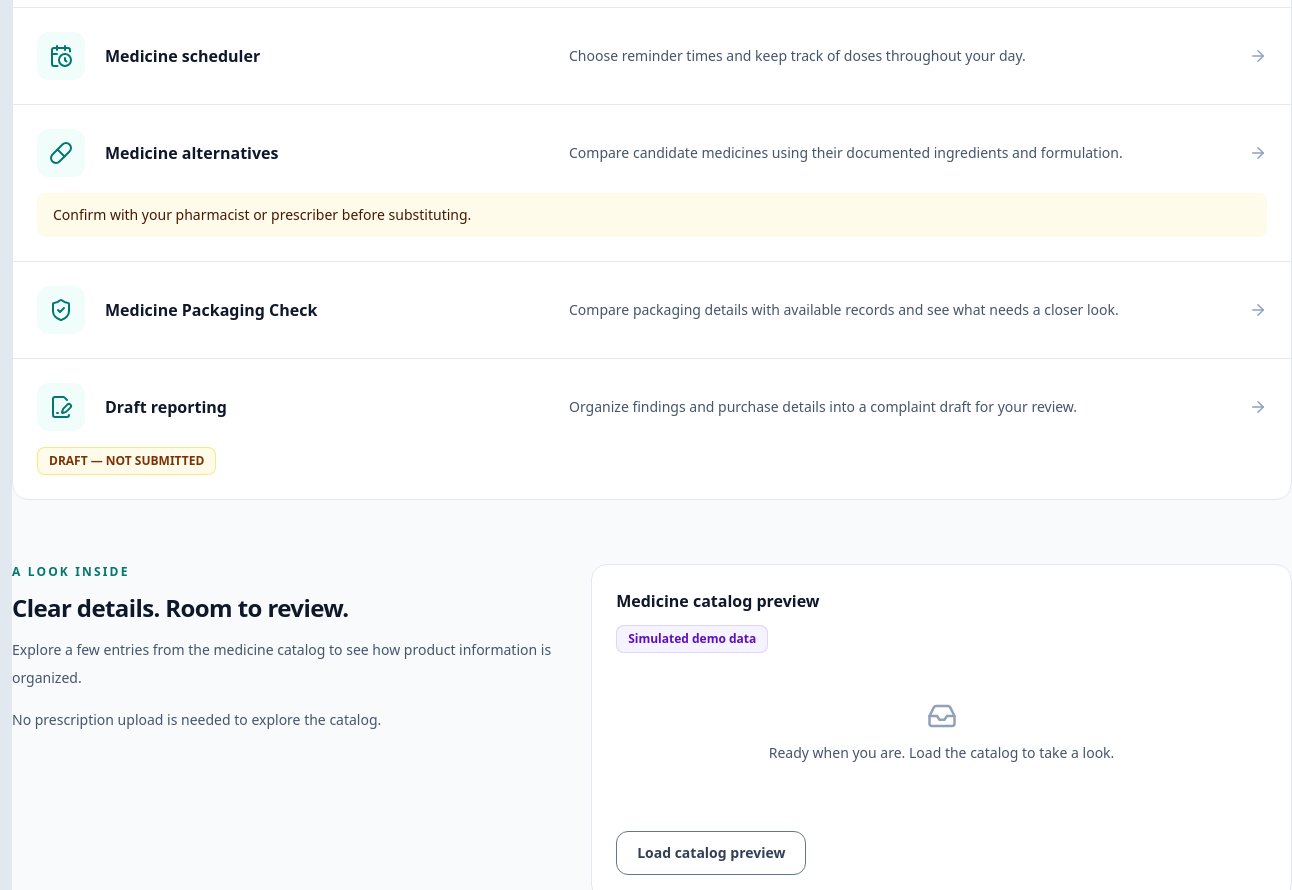
Scenario: handles an empty catalog and allows refreshing it
This screenshot has width=1292, height=890.
(page scrolled)
Step 1. Click the button "Load catalog preview" → (711, 853), box [616,831,806,875]
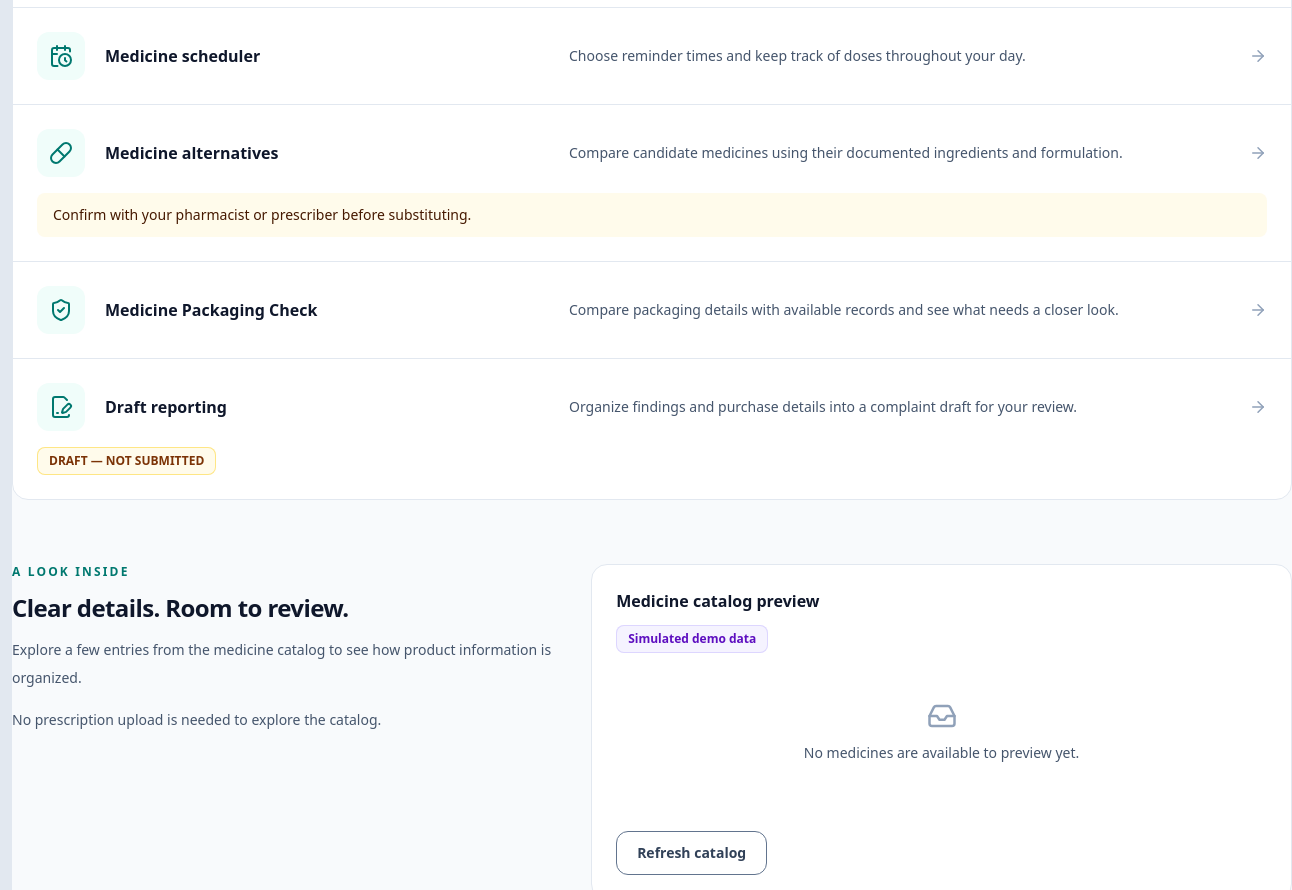
Now the text "No medicines are available to preview yet." is shown, box [804,743,1079,762]
Step 2. Click the button "Refresh catalog" → (692, 853), box [616,831,767,875]
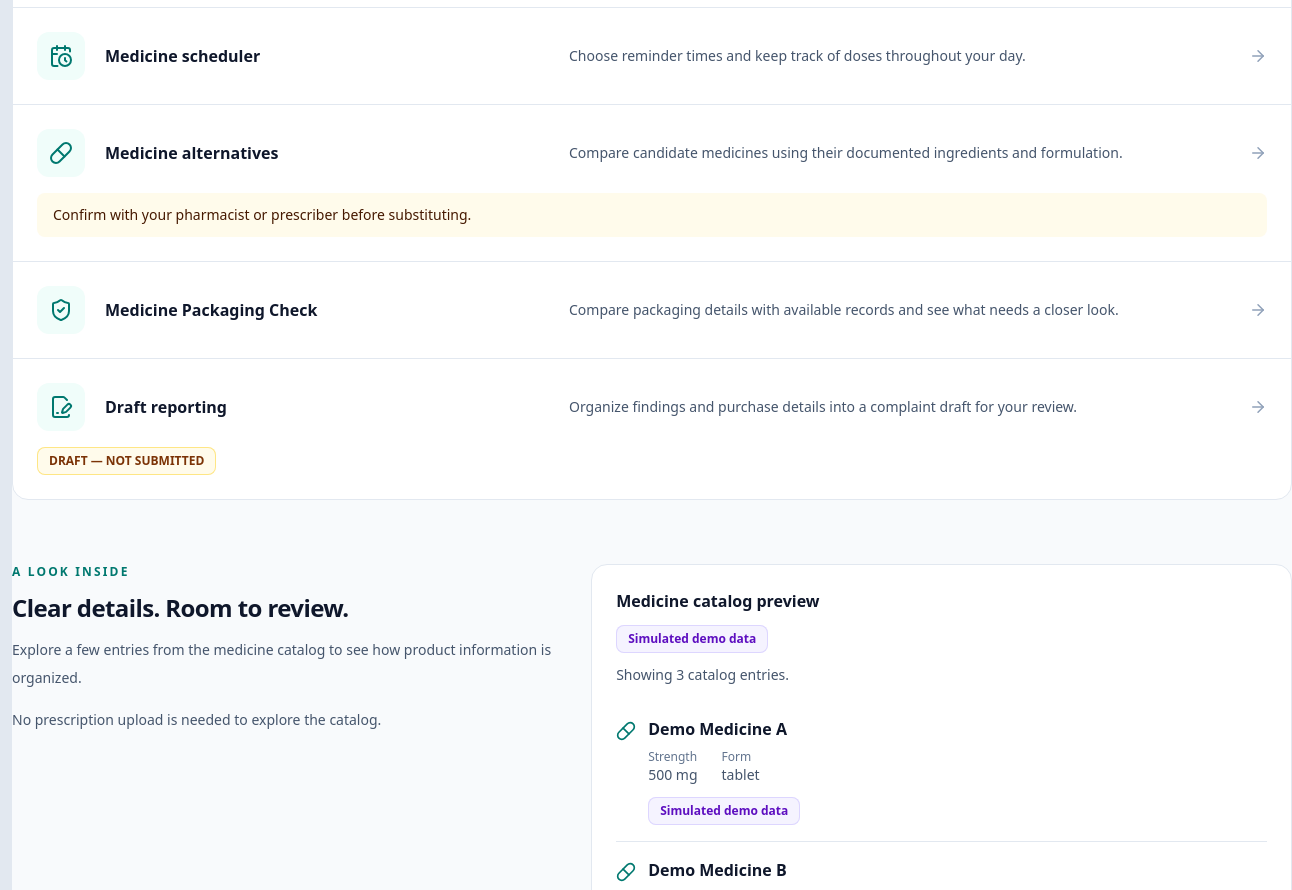
Now the heading "Demo Medicine A" is shown, box [648,718,787,740]
